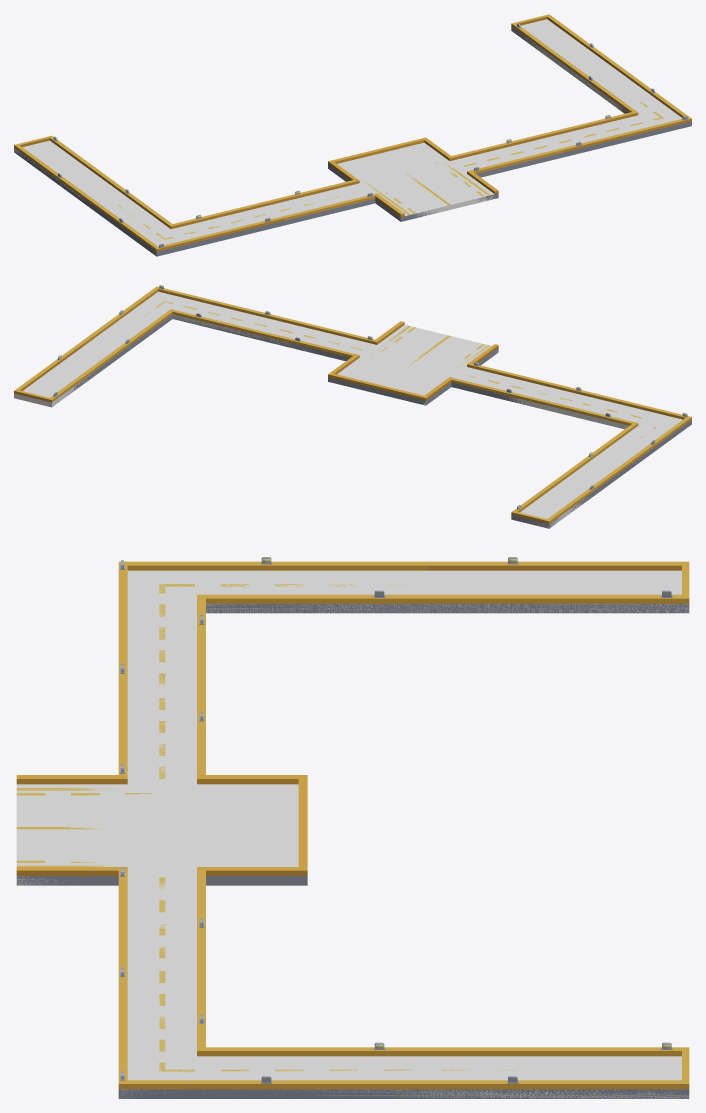
Rendered from squidgame_props_roadset.fbx.
3 views of the same model, one above another, from view 1: azimuth 30°, elevation 25°; view 2: azimuth 150°, elevation 25°; view 3: azimuth 270°, elevation 25° (orthographic). The views are drawn at different scales.
Visible parts, largest first — view 1: squidgame_props_roadset_lod, squidgame_props_roadset; view 2: squidgame_props_roadset_lod, squidgame_props_roadset; view 3: squidgame_props_roadset_lod, squidgame_props_roadset.
Part boxes in pixels (bbox=[...]): squidgame_props_roadset_lod: bbox=[14, 19, 682, 255]; squidgame_props_roadset: bbox=[14, 14, 691, 256]; squidgame_props_roadset_lod: bbox=[14, 291, 682, 528]; squidgame_props_roadset: bbox=[14, 285, 691, 528]; squidgame_props_roadset_lod: bbox=[16, 570, 689, 1098]; squidgame_props_roadset: bbox=[16, 557, 689, 1098].
Bounding box in the file's own units: 34 × 0.6501 × 18.49.
